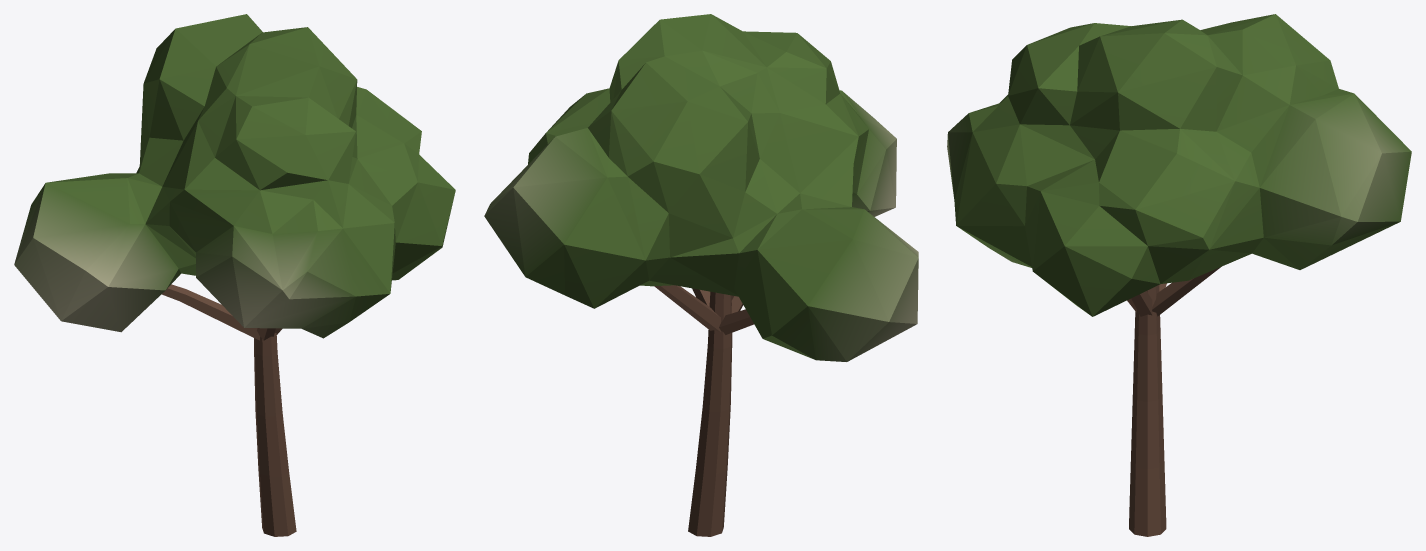
Rendered from WildCherryA.glb.
3 views of the same model, side by side, from view 1: azimuth 30°, elevation 25°; view 2: azimuth 150°, elevation 25°; view 3: azimuth 270°, elevation 25° (orthographic). The views are drawn at different scales.
Parts seen in each view (by area): view 1: WildCherryA_LOD0; view 2: WildCherryA_LOD0; view 3: WildCherryA_LOD0.
Part boxes in pixels (box(x1,y1,x2,y2)): WildCherryA_LOD0: box(14, 14, 455, 536); WildCherryA_LOD0: box(484, 14, 918, 536); WildCherryA_LOD0: box(947, 14, 1411, 536).
Size of what is drawn, in the model's own units: 4.84 by 6.03 by 4.94.
